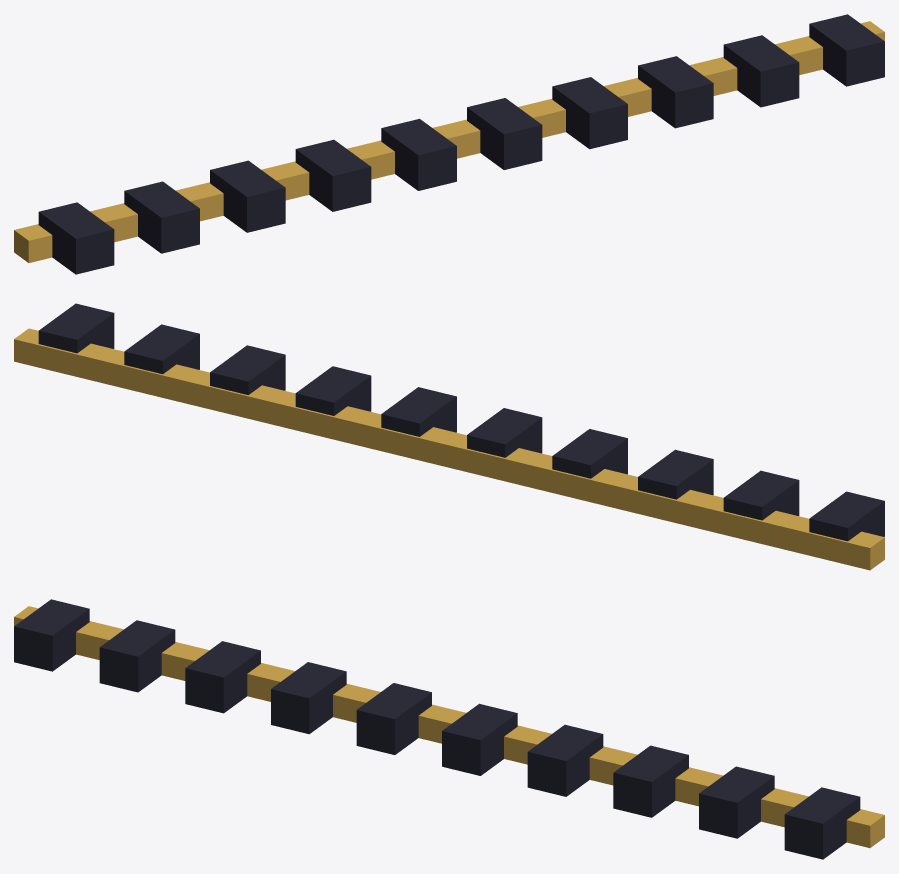
File: hanok_giwa_eave_flare.glb
3 views of the same model, one above another, from view 1: azimuth 30°, elevation 25°; view 2: azimuth 150°, elevation 25°; view 3: azimuth 330°, elevation 25° (orthographic).
Parts seen in each view (by area): view 1: hanok_giwa_eave_flare; view 2: hanok_giwa_eave_flare; view 3: hanok_giwa_eave_flare.
Part boxes in pixels (x1,y1,x2,y2): hanok_giwa_eave_flare: (14, 14, 884, 274); hanok_giwa_eave_flare: (14, 303, 884, 570); hanok_giwa_eave_flare: (14, 599, 884, 859).
Bounding box in the file's own units: 4 × 0.16 × 0.31.
